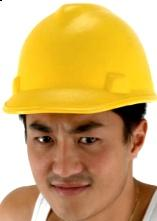helmet: (6, 3, 157, 113)
